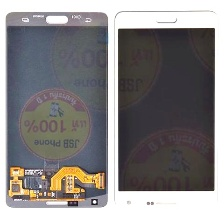phone: (112, 8, 221, 211), (3, 8, 108, 210)
